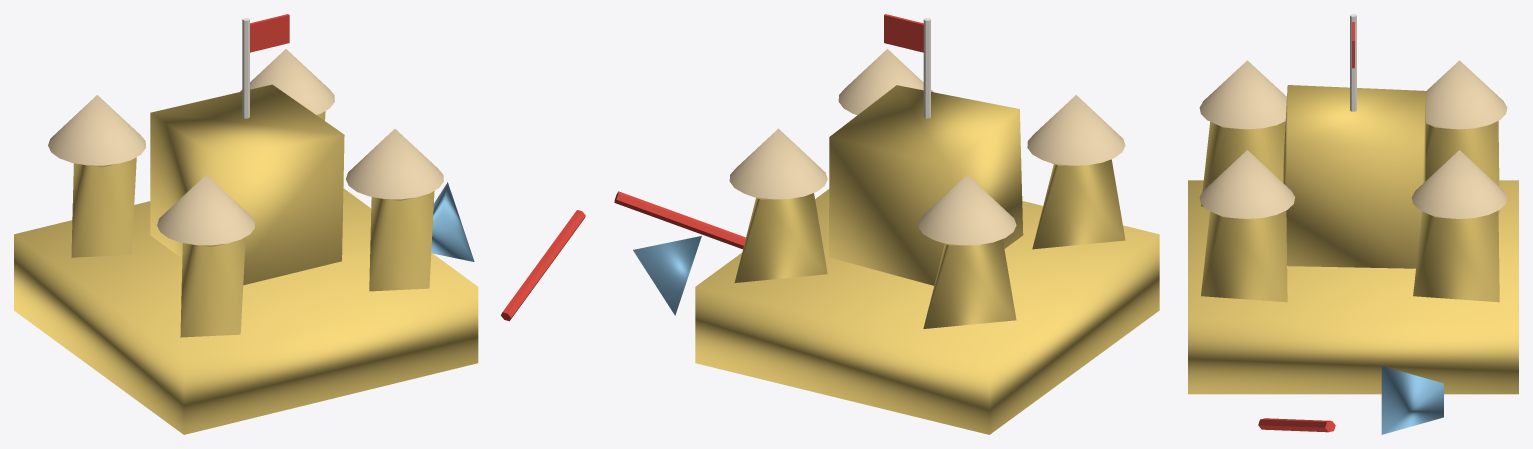
File: sandcastle.glb
The picture shows the model from 3 angles, left to right: view 1: azimuth 30°, elevation 25°; view 2: azimuth 150°, elevation 25°; view 3: azimuth 270°, elevation 25°; orthographic projection. The views are drawn at different scales.
Parts seen in each view (by area): view 1: sandcastle; view 2: sandcastle; view 3: sandcastle.
Part boxes in pixels (bbox=[...]): sandcastle: bbox=[14, 14, 585, 434]; sandcastle: bbox=[614, 14, 1159, 434]; sandcastle: bbox=[1188, 14, 1518, 434].
Bounding box in the file's own units: 1.77 × 1.15 × 1.1.
1 material, 1 textured.
